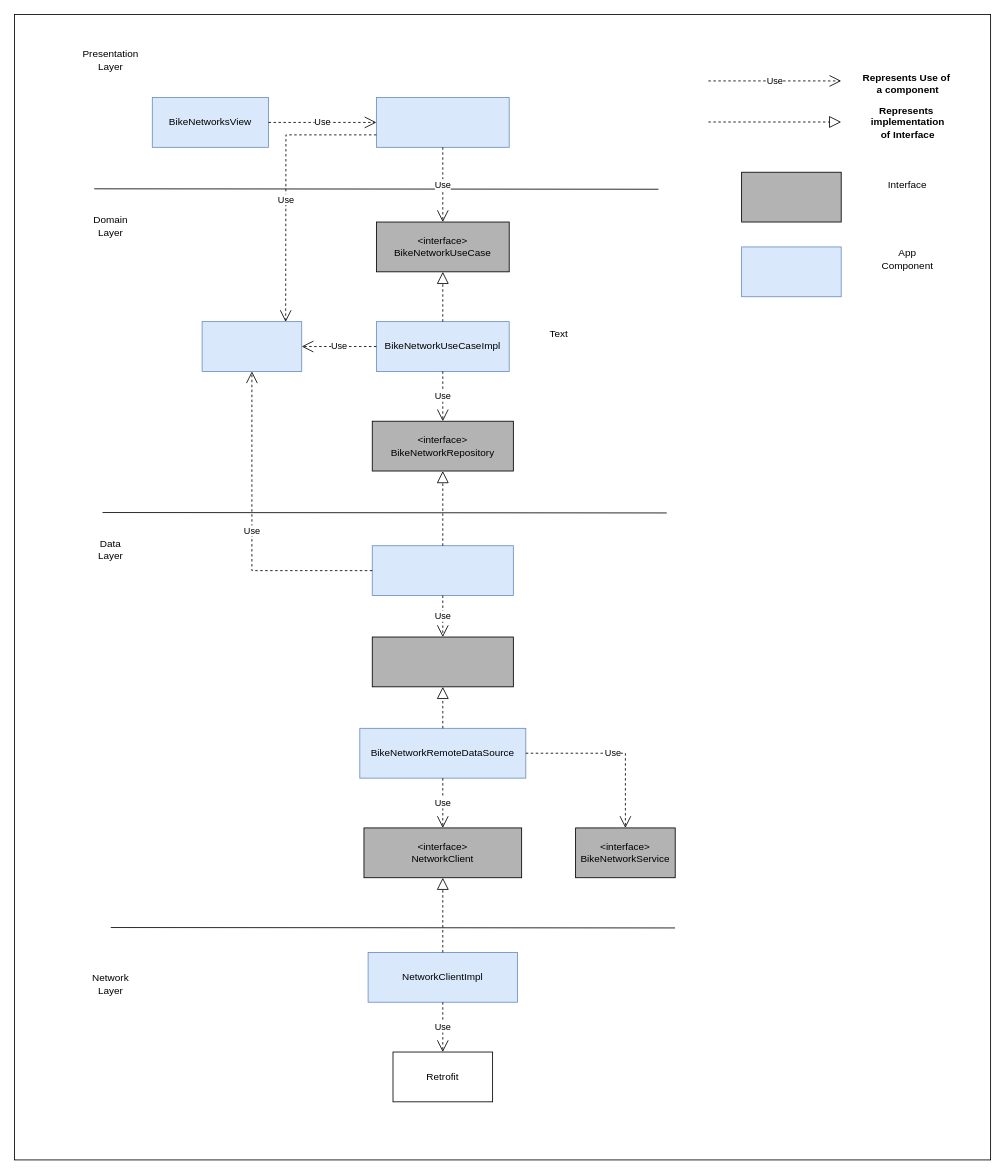
This 1005x1174 diagram has some shape labels left out. The shapes that lost their labels are listed below. From the top down, each one's centre as x and y in pixels, then its label:
[442,122]: BikeNetworksViewModel
[251,346]: BikeNetworksEntity
[442,570]: BikeNetworkRepositoryImpl
[442,661]: <interface> BikeNetworkDataSource
